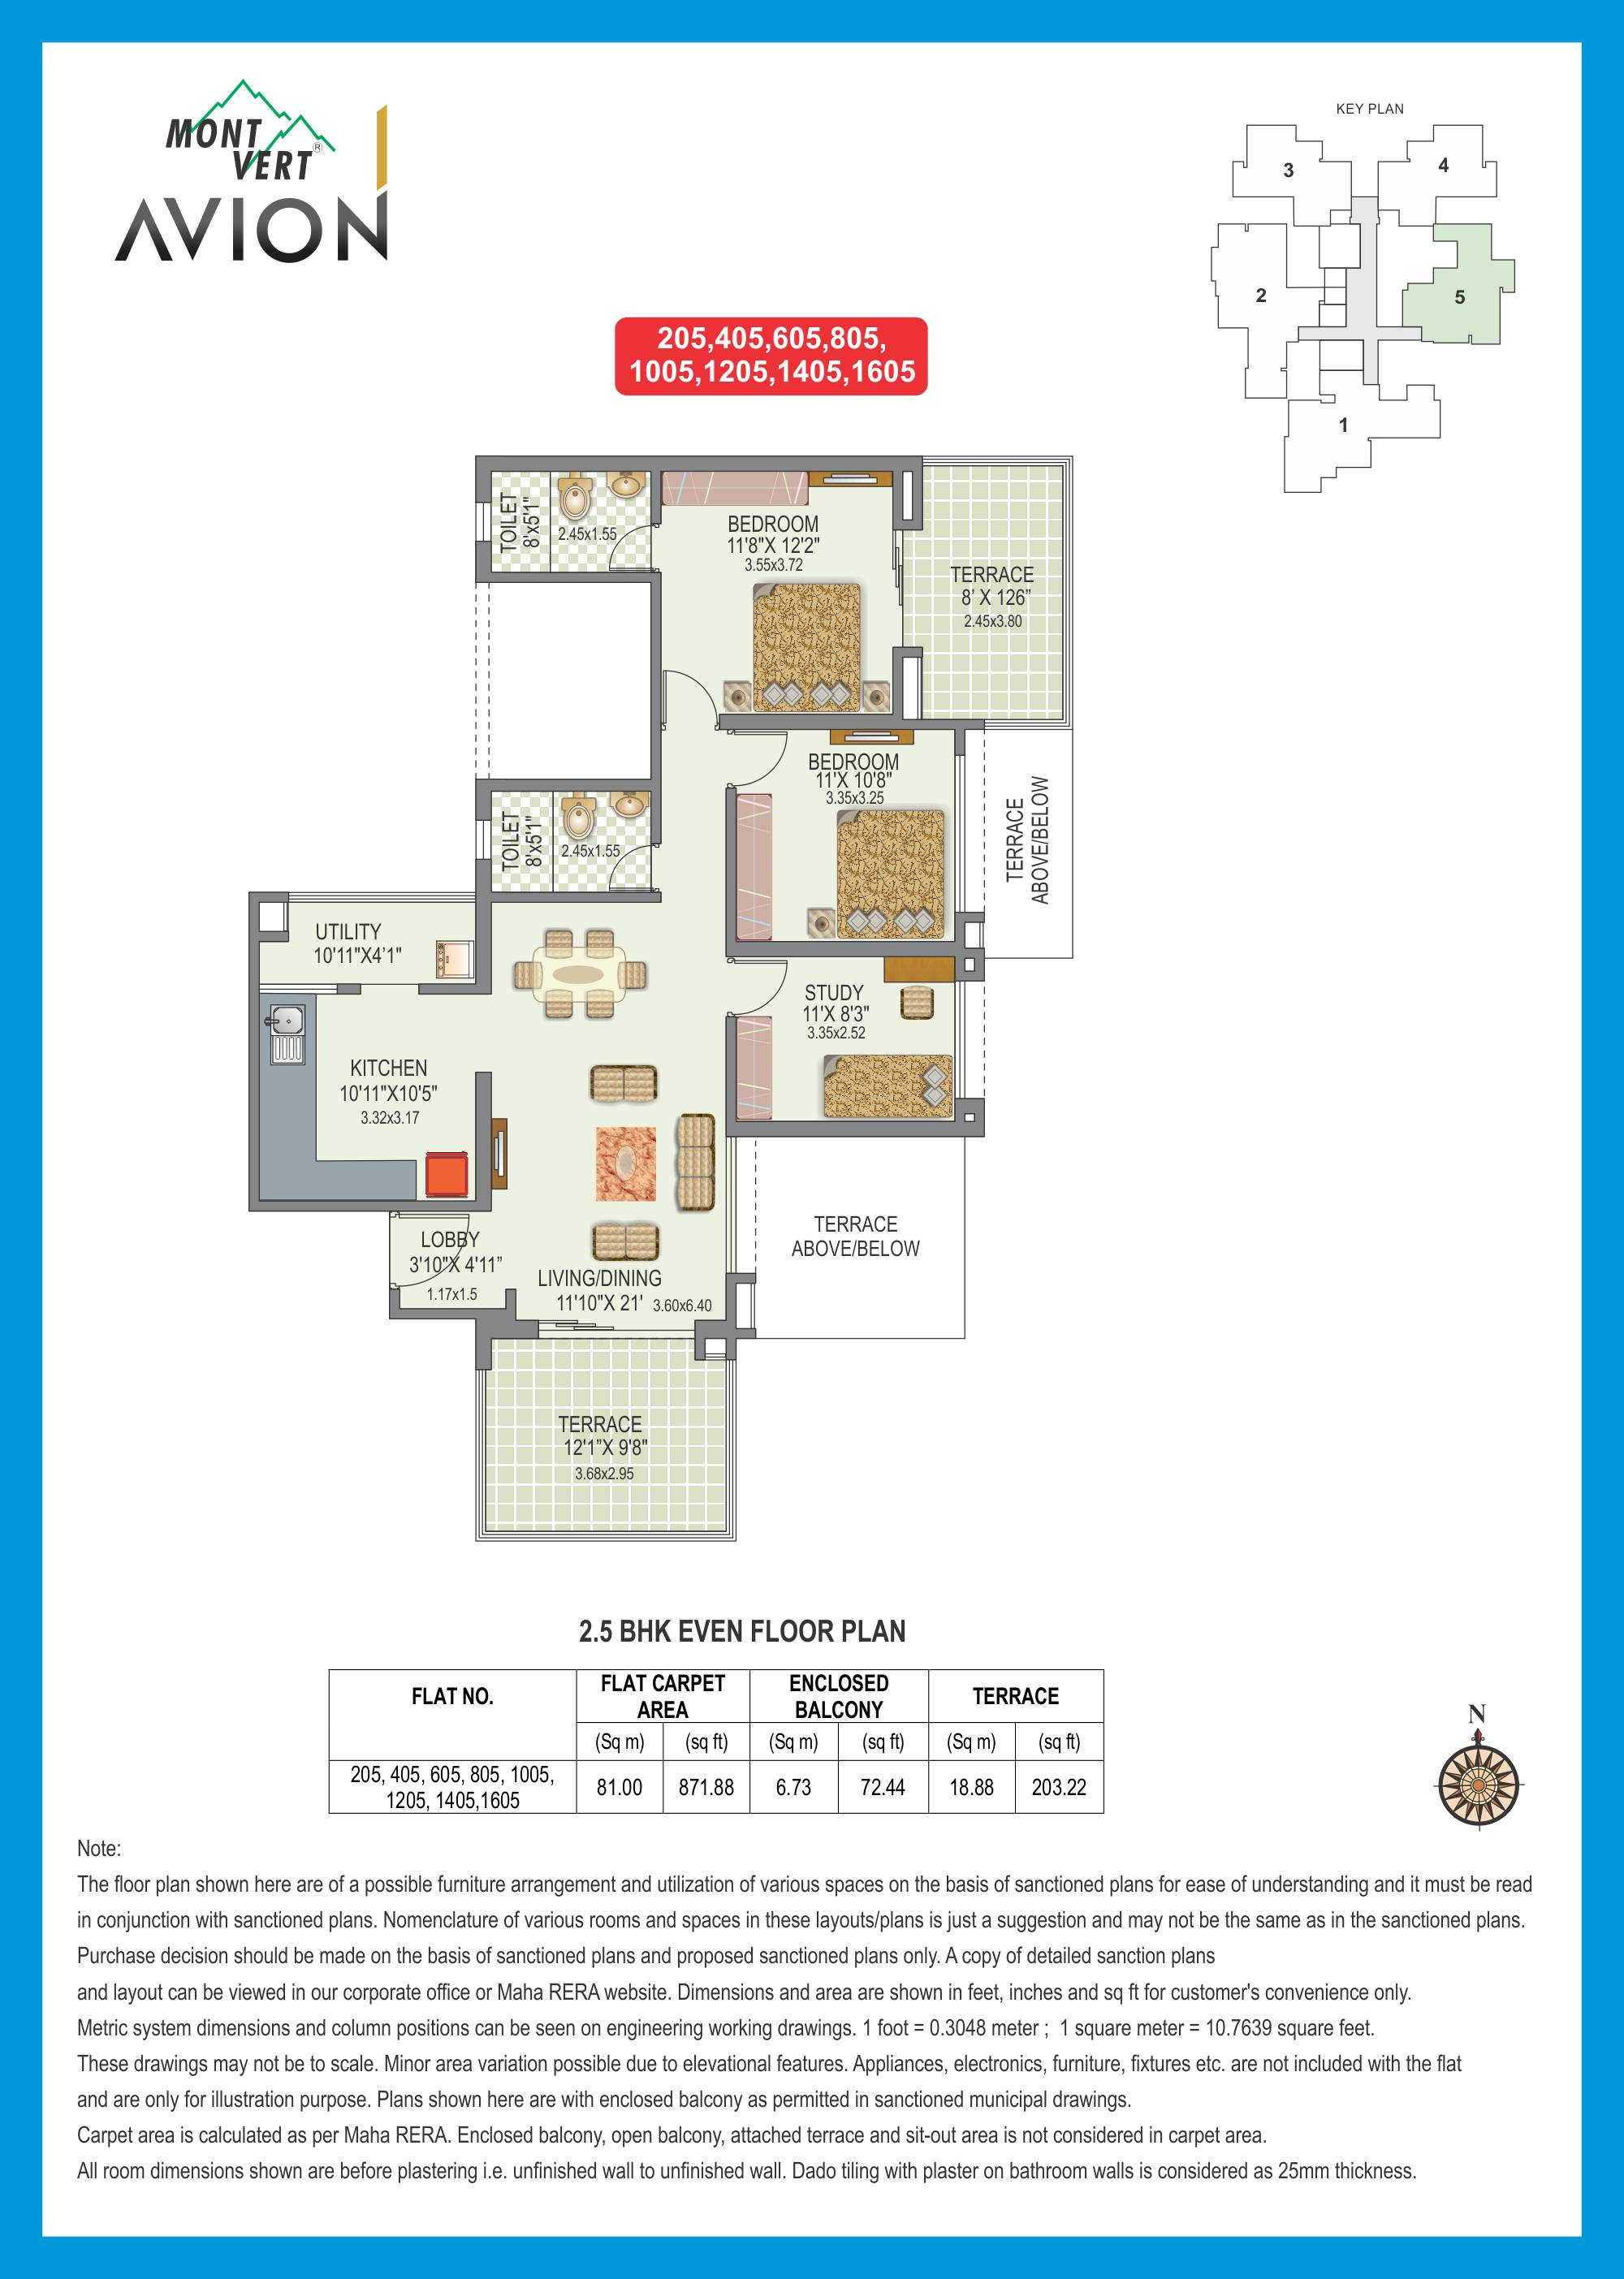window: (947, 754, 972, 914), (286, 887, 478, 907), (721, 1133, 742, 1274), (951, 979, 972, 1102), (257, 982, 341, 996), (471, 499, 492, 543), (473, 819, 494, 861), (703, 1351, 728, 1364)
